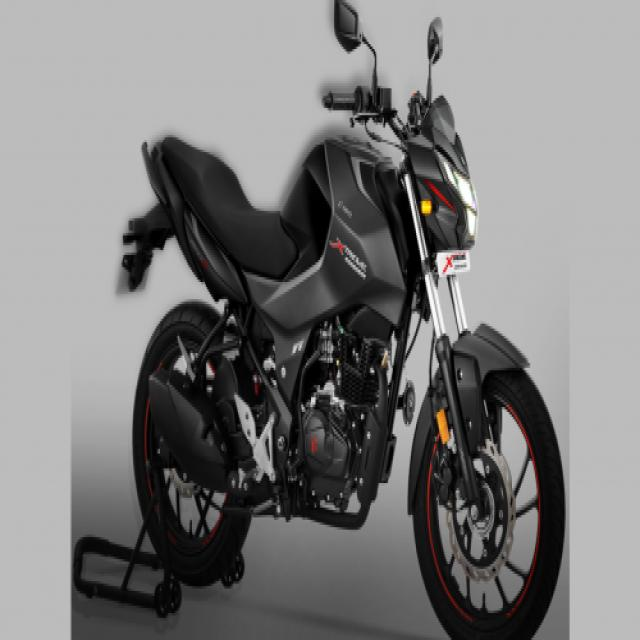Bike: (121, 2, 567, 631)
